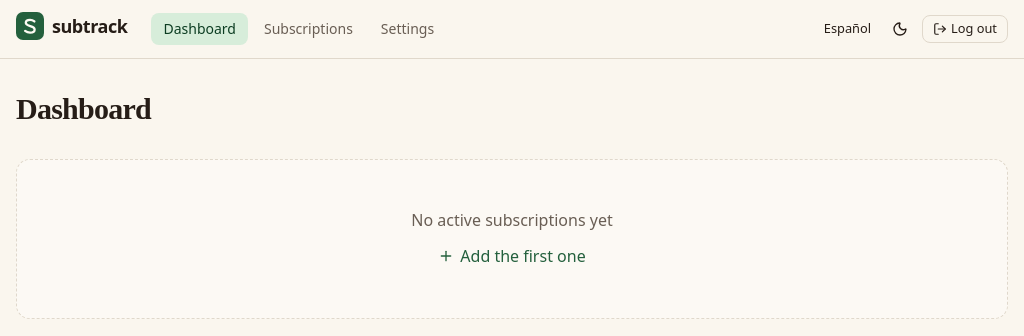
Scenario: switches the language
Step 1. Click the button "Español" → [847, 29], box [813, 15, 882, 43]
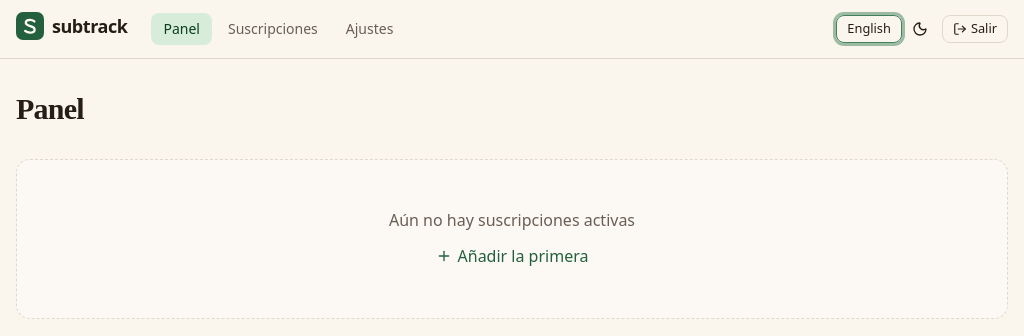
Expected: the heading "Panel" is shown, [16, 91, 84, 127]
Expected: the button "Salir" is shown, [942, 15, 1008, 43]
